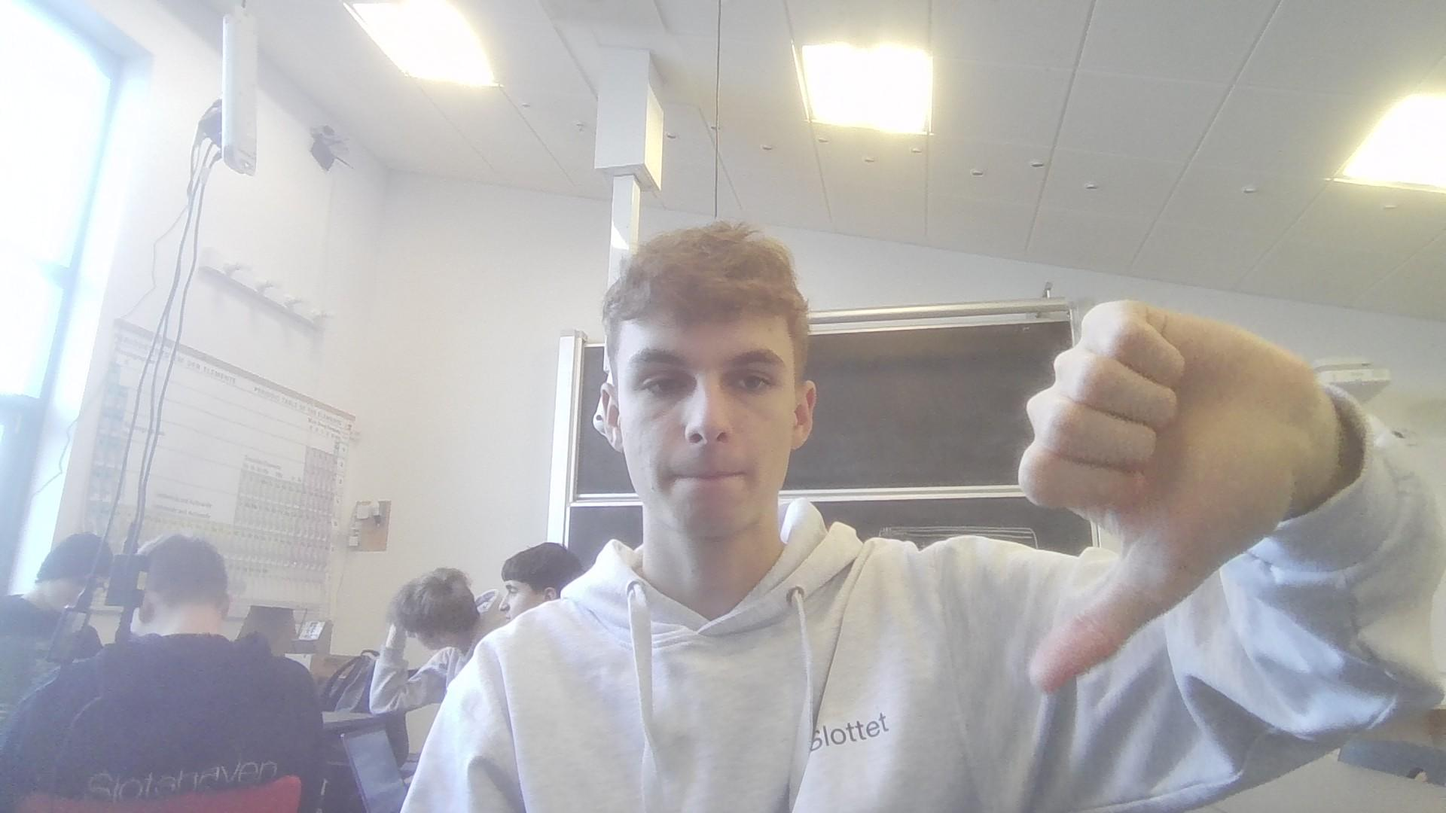thumbs down: (975, 290, 1333, 699)
